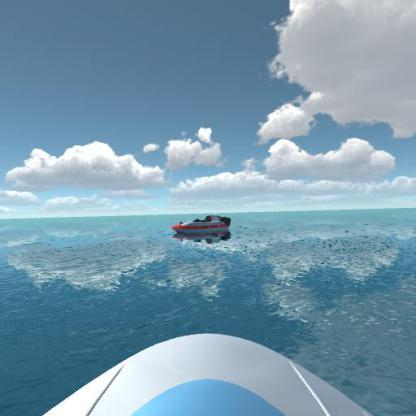usv3: (169, 206, 236, 246)
